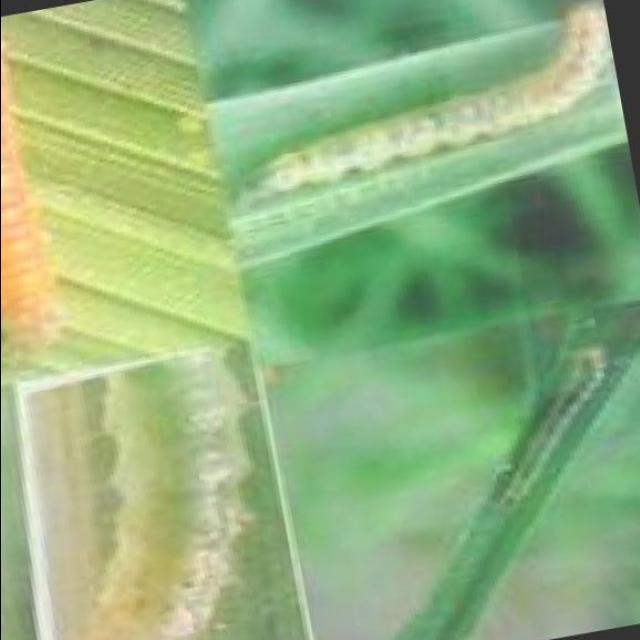leaf folder: (249, 3, 610, 202), (66, 362, 247, 640), (492, 331, 627, 528), (0, 43, 53, 341)
